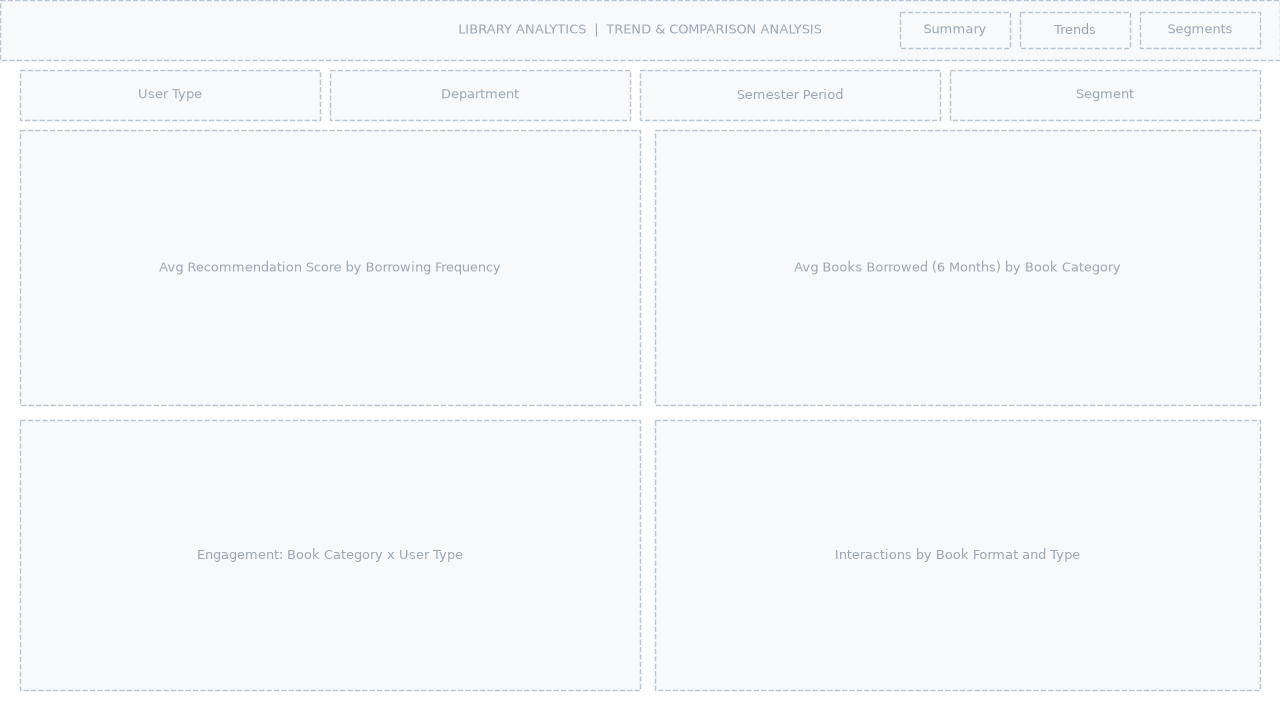

What the dashboard file says about the page in this screenshot:
{"tool":"powerbi","page":{"name":"Trend & Comparison","canvas":[1280,720],"ordinal":1},"visuals":[{"type":"slicer","fields":{"Values":["Library.User_Type"]},"box":[20,70,300,60],"z":0},{"type":"slicer","fields":{"Values":["Library.Department"]},"box":[330,70,300,60],"z":1000},{"type":"slicer","fields":{"Values":["Library.Semester_Period"]},"box":[640,70,300,60],"z":2000},{"type":"slicer","fields":{"Values":["Library.Segment"]},"box":[950,70,300,60],"z":3000},{"type":"shape","box":[0,0,1280,60],"z":4000},{"type":"textbox","box":[20,2.9,860,54],"z":5000},{"type":"lineChart","fields":{"Category":["Library.Borrowing_Frequency"],"Y":["Library.Avg Recommendation Score"]},"box":[20,130,620,275],"z":6000},{"type":"clusteredBarChart","title":"Avg Books Borrowed (6 Months) by Book Category","fields":{"Category":["Library.Book_Category"],"Y":["Library.Avg Books Borrowed 6M"]},"box":[655,130,605,275],"z":7000},{"type":"pivotTable","title":"Engagement: Book Category x User Type","fields":{"Columns":["Library.User_Type"],"Rows":["Library.Book_Category"],"Values":["Library.Avg Books Borrowed 6M"]},"box":[20,420,620,270],"z":8000},{"type":"columnChart","title":"Interactions by Book Format and Type","fields":{"Category":["Library.Book_Format"],"Series":["Library.Interaction_Type"],"Y":["Library.Total Patrons"]},"box":[655,420,605,270],"z":9000},{"type":"pageNavigator","box":[900,12,360,36],"z":9001}]}

Visuals, with their boxes in screenshot pixels (x1, y1, x2, y2), scaled from the page's 1280x720 canvas onto the 1280x720 screenshot:
slicer - Library.User_Type: bbox=(20, 70, 320, 130)
slicer - Library.Department: bbox=(330, 70, 630, 130)
slicer - Library.Semester_Period: bbox=(640, 70, 940, 130)
slicer - Library.Segment: bbox=(950, 70, 1250, 130)
shape: bbox=(0, 0, 1279, 60)
textbox: bbox=(20, 3, 880, 57)
lineChart - Library.Borrowing_Frequency x Library.Avg Recommendation Score: bbox=(20, 130, 640, 405)
"Avg Books Borrowed (6 Months) by Book Category" clusteredBarChart: bbox=(655, 130, 1260, 405)
"Engagement: Book Category x User Type" pivotTable: bbox=(20, 420, 640, 690)
"Interactions by Book Format and Type" columnChart: bbox=(655, 420, 1260, 690)
pageNavigator: bbox=(900, 12, 1260, 48)
